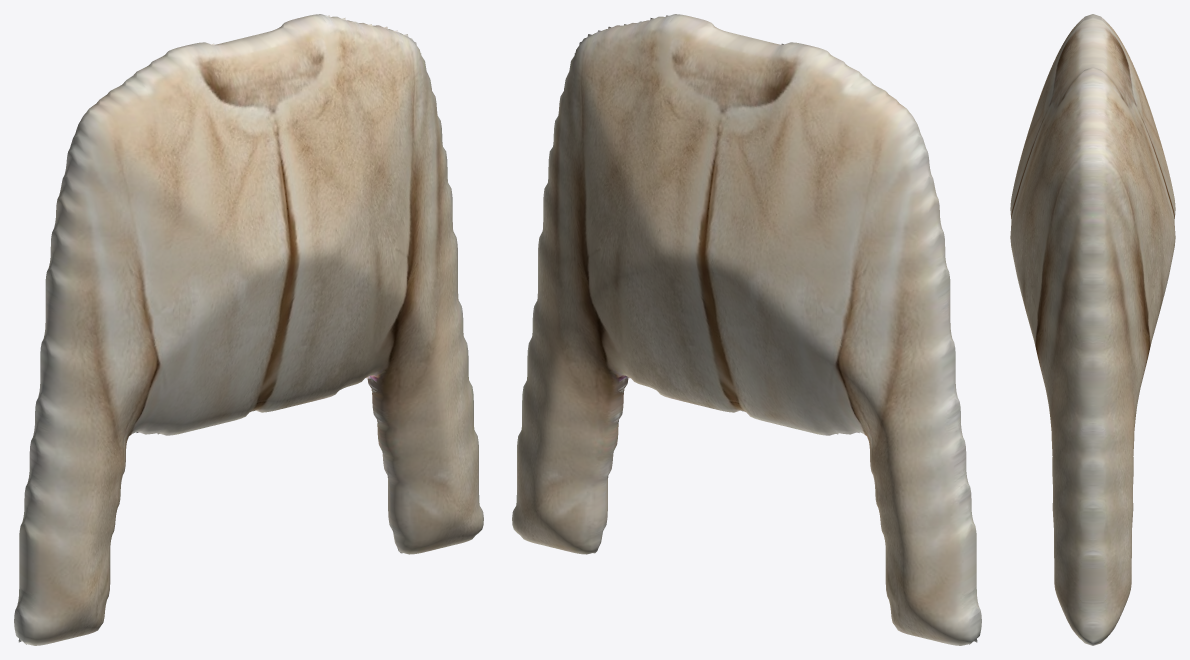
File: prod-ae-cream-cropped-fur-jacket.glb
The picture shows the model from 3 angles, left to right: view 1: azimuth 30°, elevation 25°; view 2: azimuth 150°, elevation 25°; view 3: azimuth 270°, elevation 25°; orthographic projection. The views are drawn at different scales.
Parts seen in each view (by area): view 1: prod-ae-cream-cropped-fur-jacket_standalone; view 2: prod-ae-cream-cropped-fur-jacket_standalone; view 3: prod-ae-cream-cropped-fur-jacket_standalone.
Part boxes in pixels (x1,y1,x2,y2): prod-ae-cream-cropped-fur-jacket_standalone: (14, 14, 483, 645); prod-ae-cream-cropped-fur-jacket_standalone: (512, 14, 981, 645); prod-ae-cream-cropped-fur-jacket_standalone: (1010, 14, 1175, 645).
Size of the model in its own units: 0.4096 by 0.4768 by 0.1419.
1 material, 1 textured.
